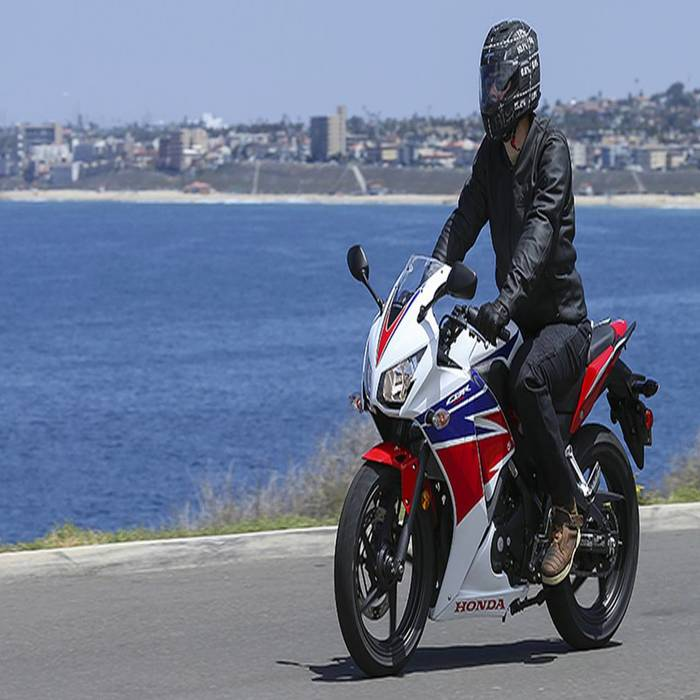h: (478, 13, 544, 144)
